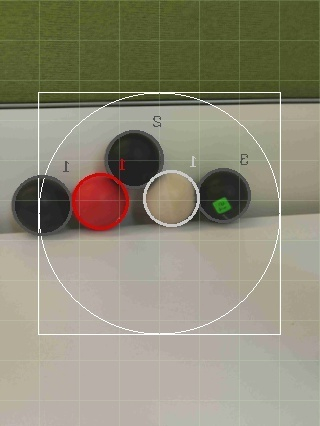Pelota blanca: (143, 169, 201, 227)
Pelota negra: (10, 174, 73, 235), (103, 129, 167, 187), (199, 166, 252, 224)
Pelota roja: (71, 169, 132, 232)
